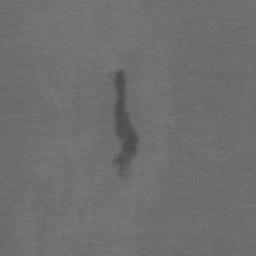Iron scale compression: (111, 70, 139, 178)
